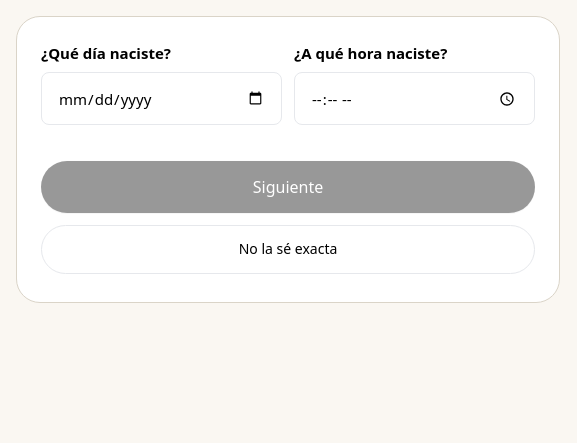
Scenario: Cuando › shows the class the moment a certain date is entered, with no press
The image size is (577, 443).
Type "2000-07-28" into the date field labelled "¿Qué día naciste?" at x=162, y=99, box 41,72 -> 282,125
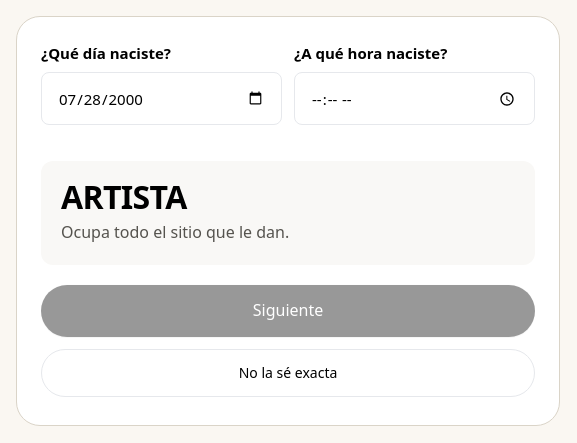
expect the text "ARTISTA" is shown: met, box 61,175 -> 187,218
